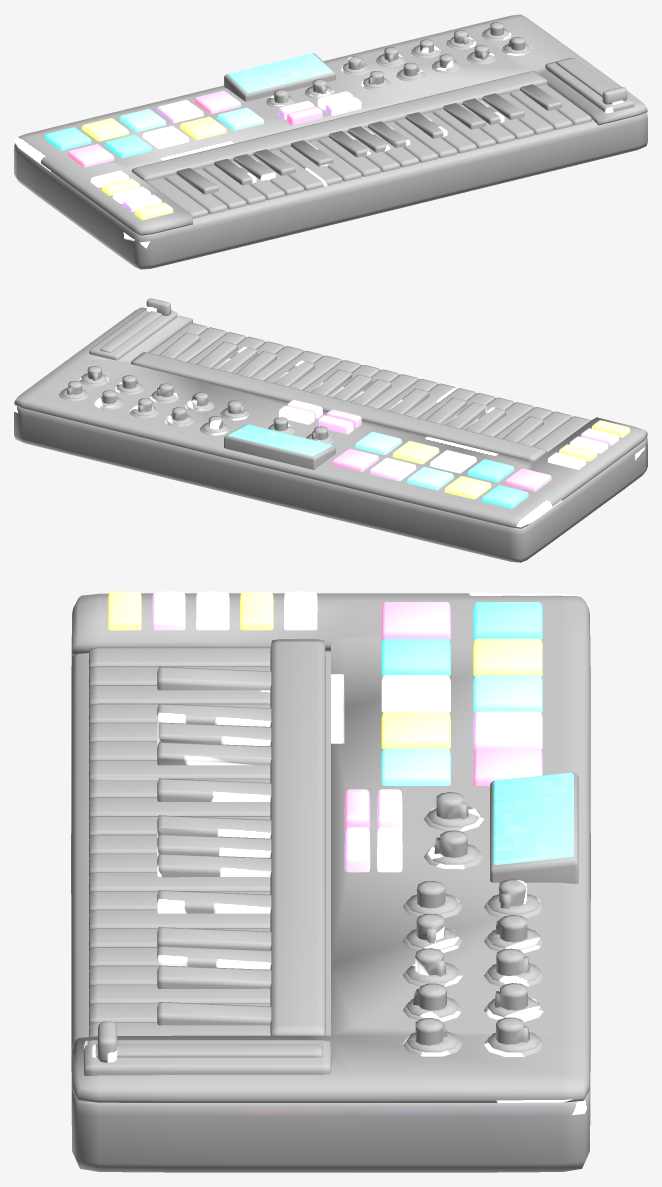
The model's file is bj-mixer-icon.glb.
The picture shows the model from 3 angles, top to bottom: view 1: azimuth 30°, elevation 25°; view 2: azimuth 150°, elevation 25°; view 3: azimuth 270°, elevation 25°; orthographic projection. The views are drawn at different scales.
Parts seen in each view (by area): view 1: dj-synthesizer; view 2: dj-synthesizer; view 3: dj-synthesizer.
Boxes of the visible parts, x1=… form: dj-synthesizer: x1=14, y1=14, x2=647, y2=269; dj-synthesizer: x1=14, y1=298, x2=647, y2=562; dj-synthesizer: x1=71, y1=591, x2=590, y2=1172.
Bounding box in the file's own units: 0.9529 × 0.1088 × 0.4189.
